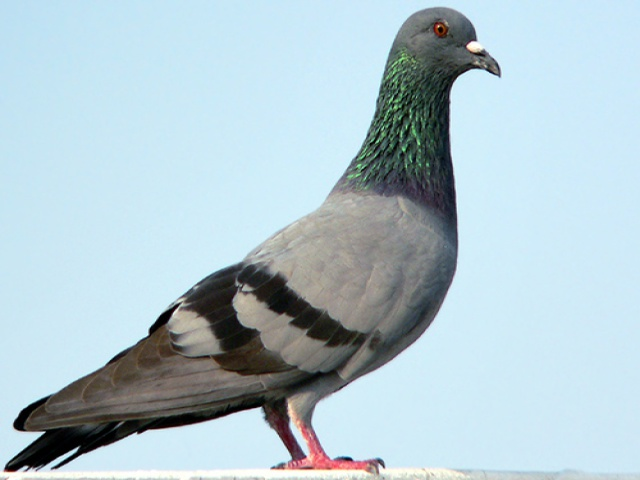Pigeon: (1, 3, 509, 475)
